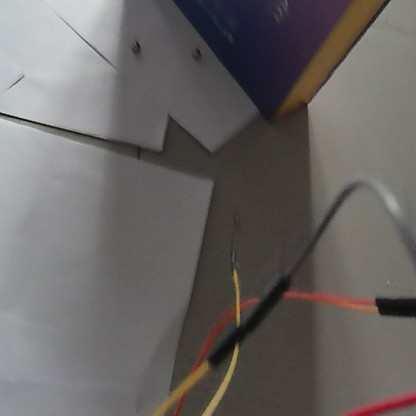ironball: (128, 38, 141, 54), (189, 46, 201, 60)
